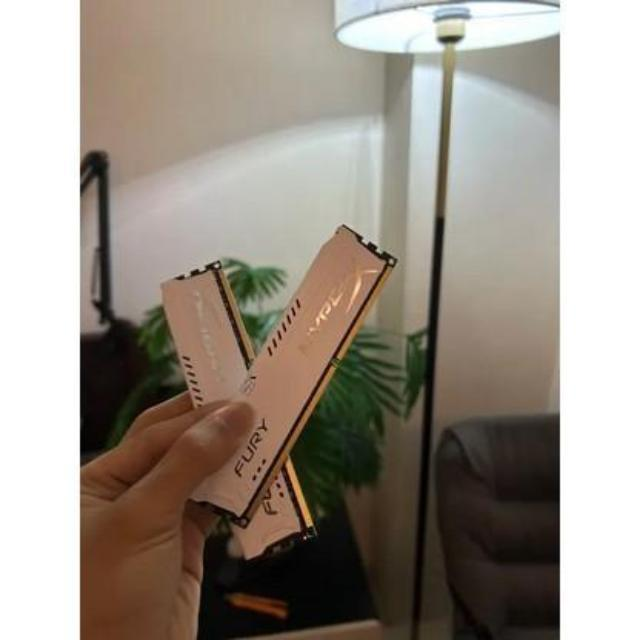RAM: (146, 225, 406, 564)
